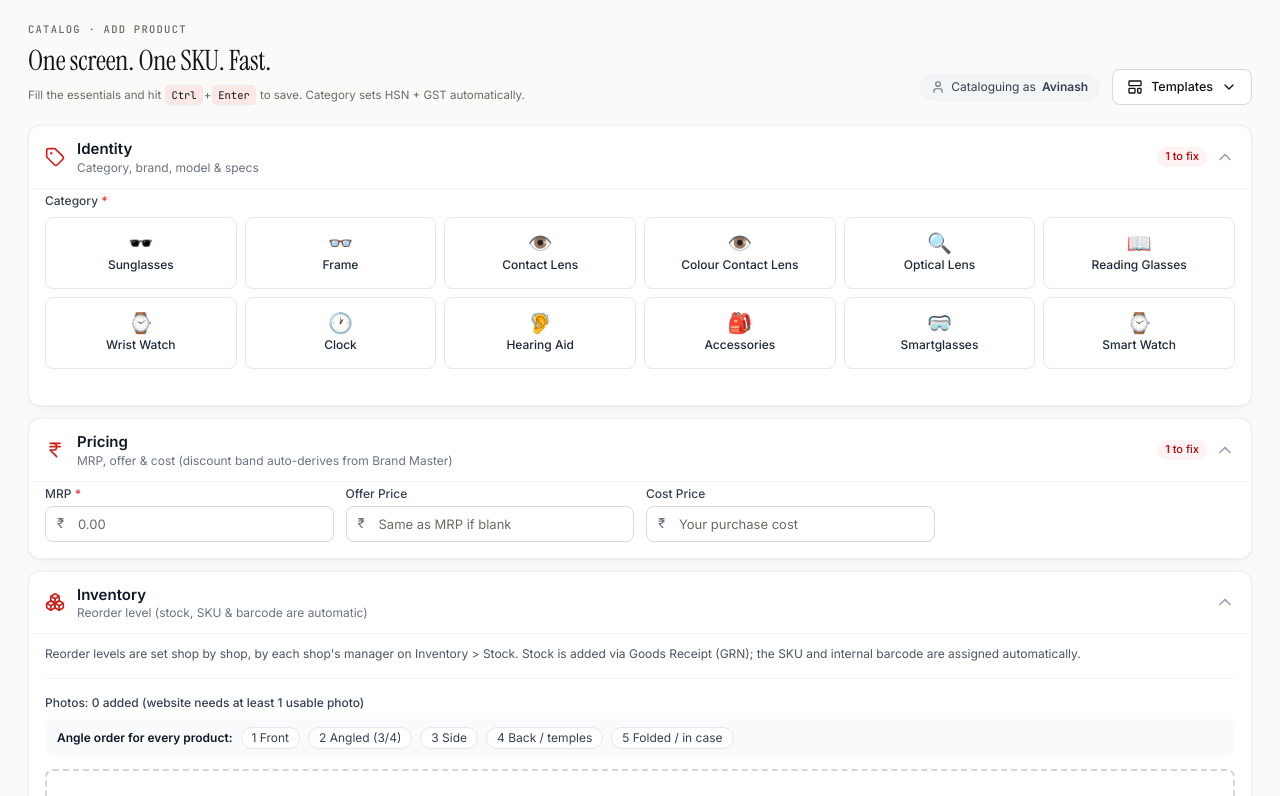
Scenario: 8 - the review card uses registry labels › names a filled attribute by the label the form itself shows, never the raw key
Click the text "Sunglasses": coordinates (141, 265) [108,257,174,273]
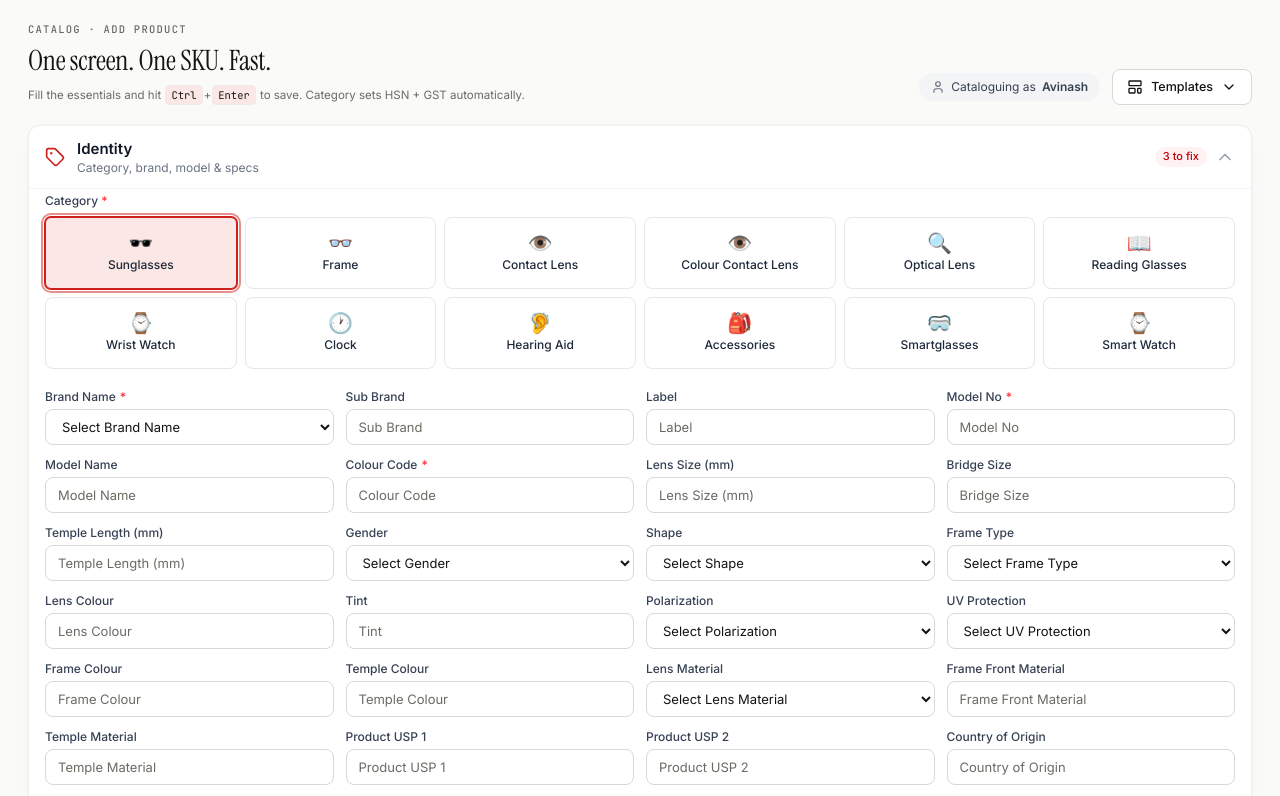
In the field labelled "Frame Front Material": coordinates (1091, 699) [946,681,1235,717], type "Acetate"
(page scrolled)
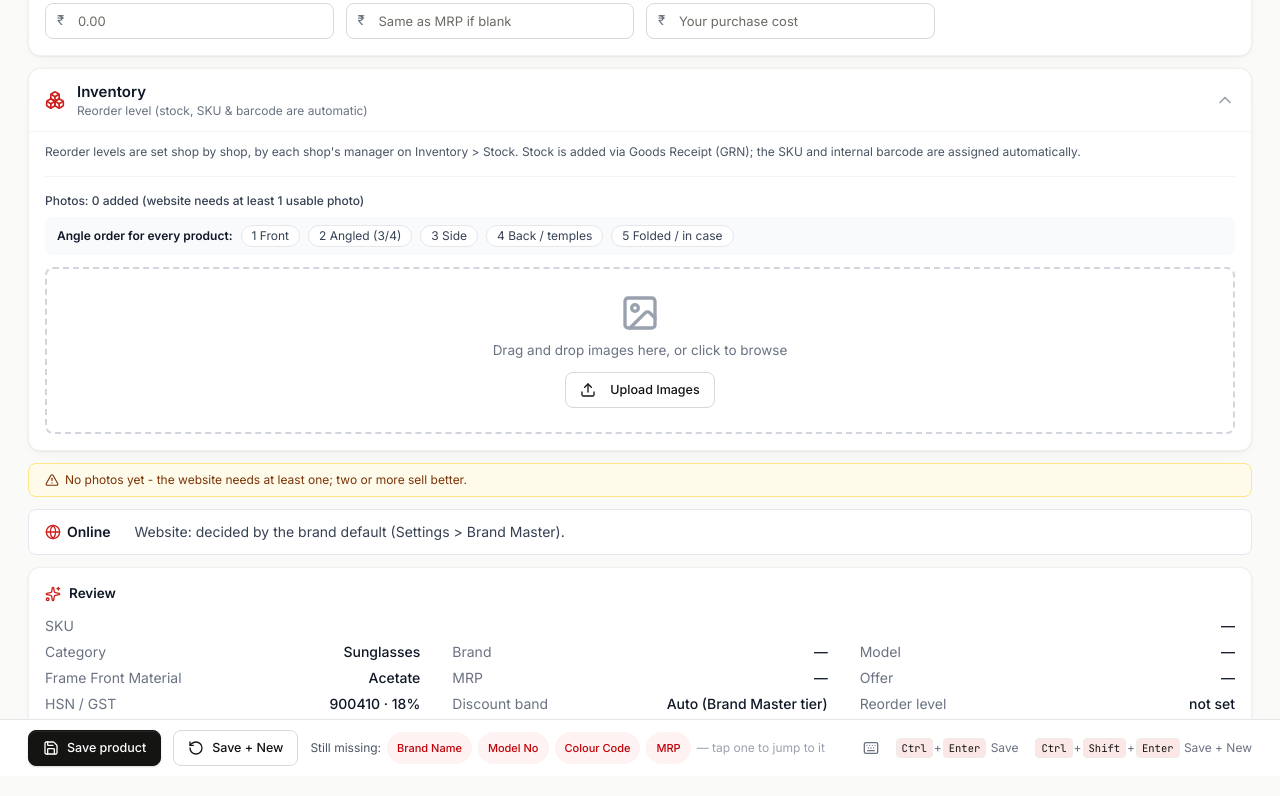
Check: the text "Frame Front Material" is shown, box [45,668,182,688]
Check: the text "Acetate" is shown, box [369,668,420,688]
